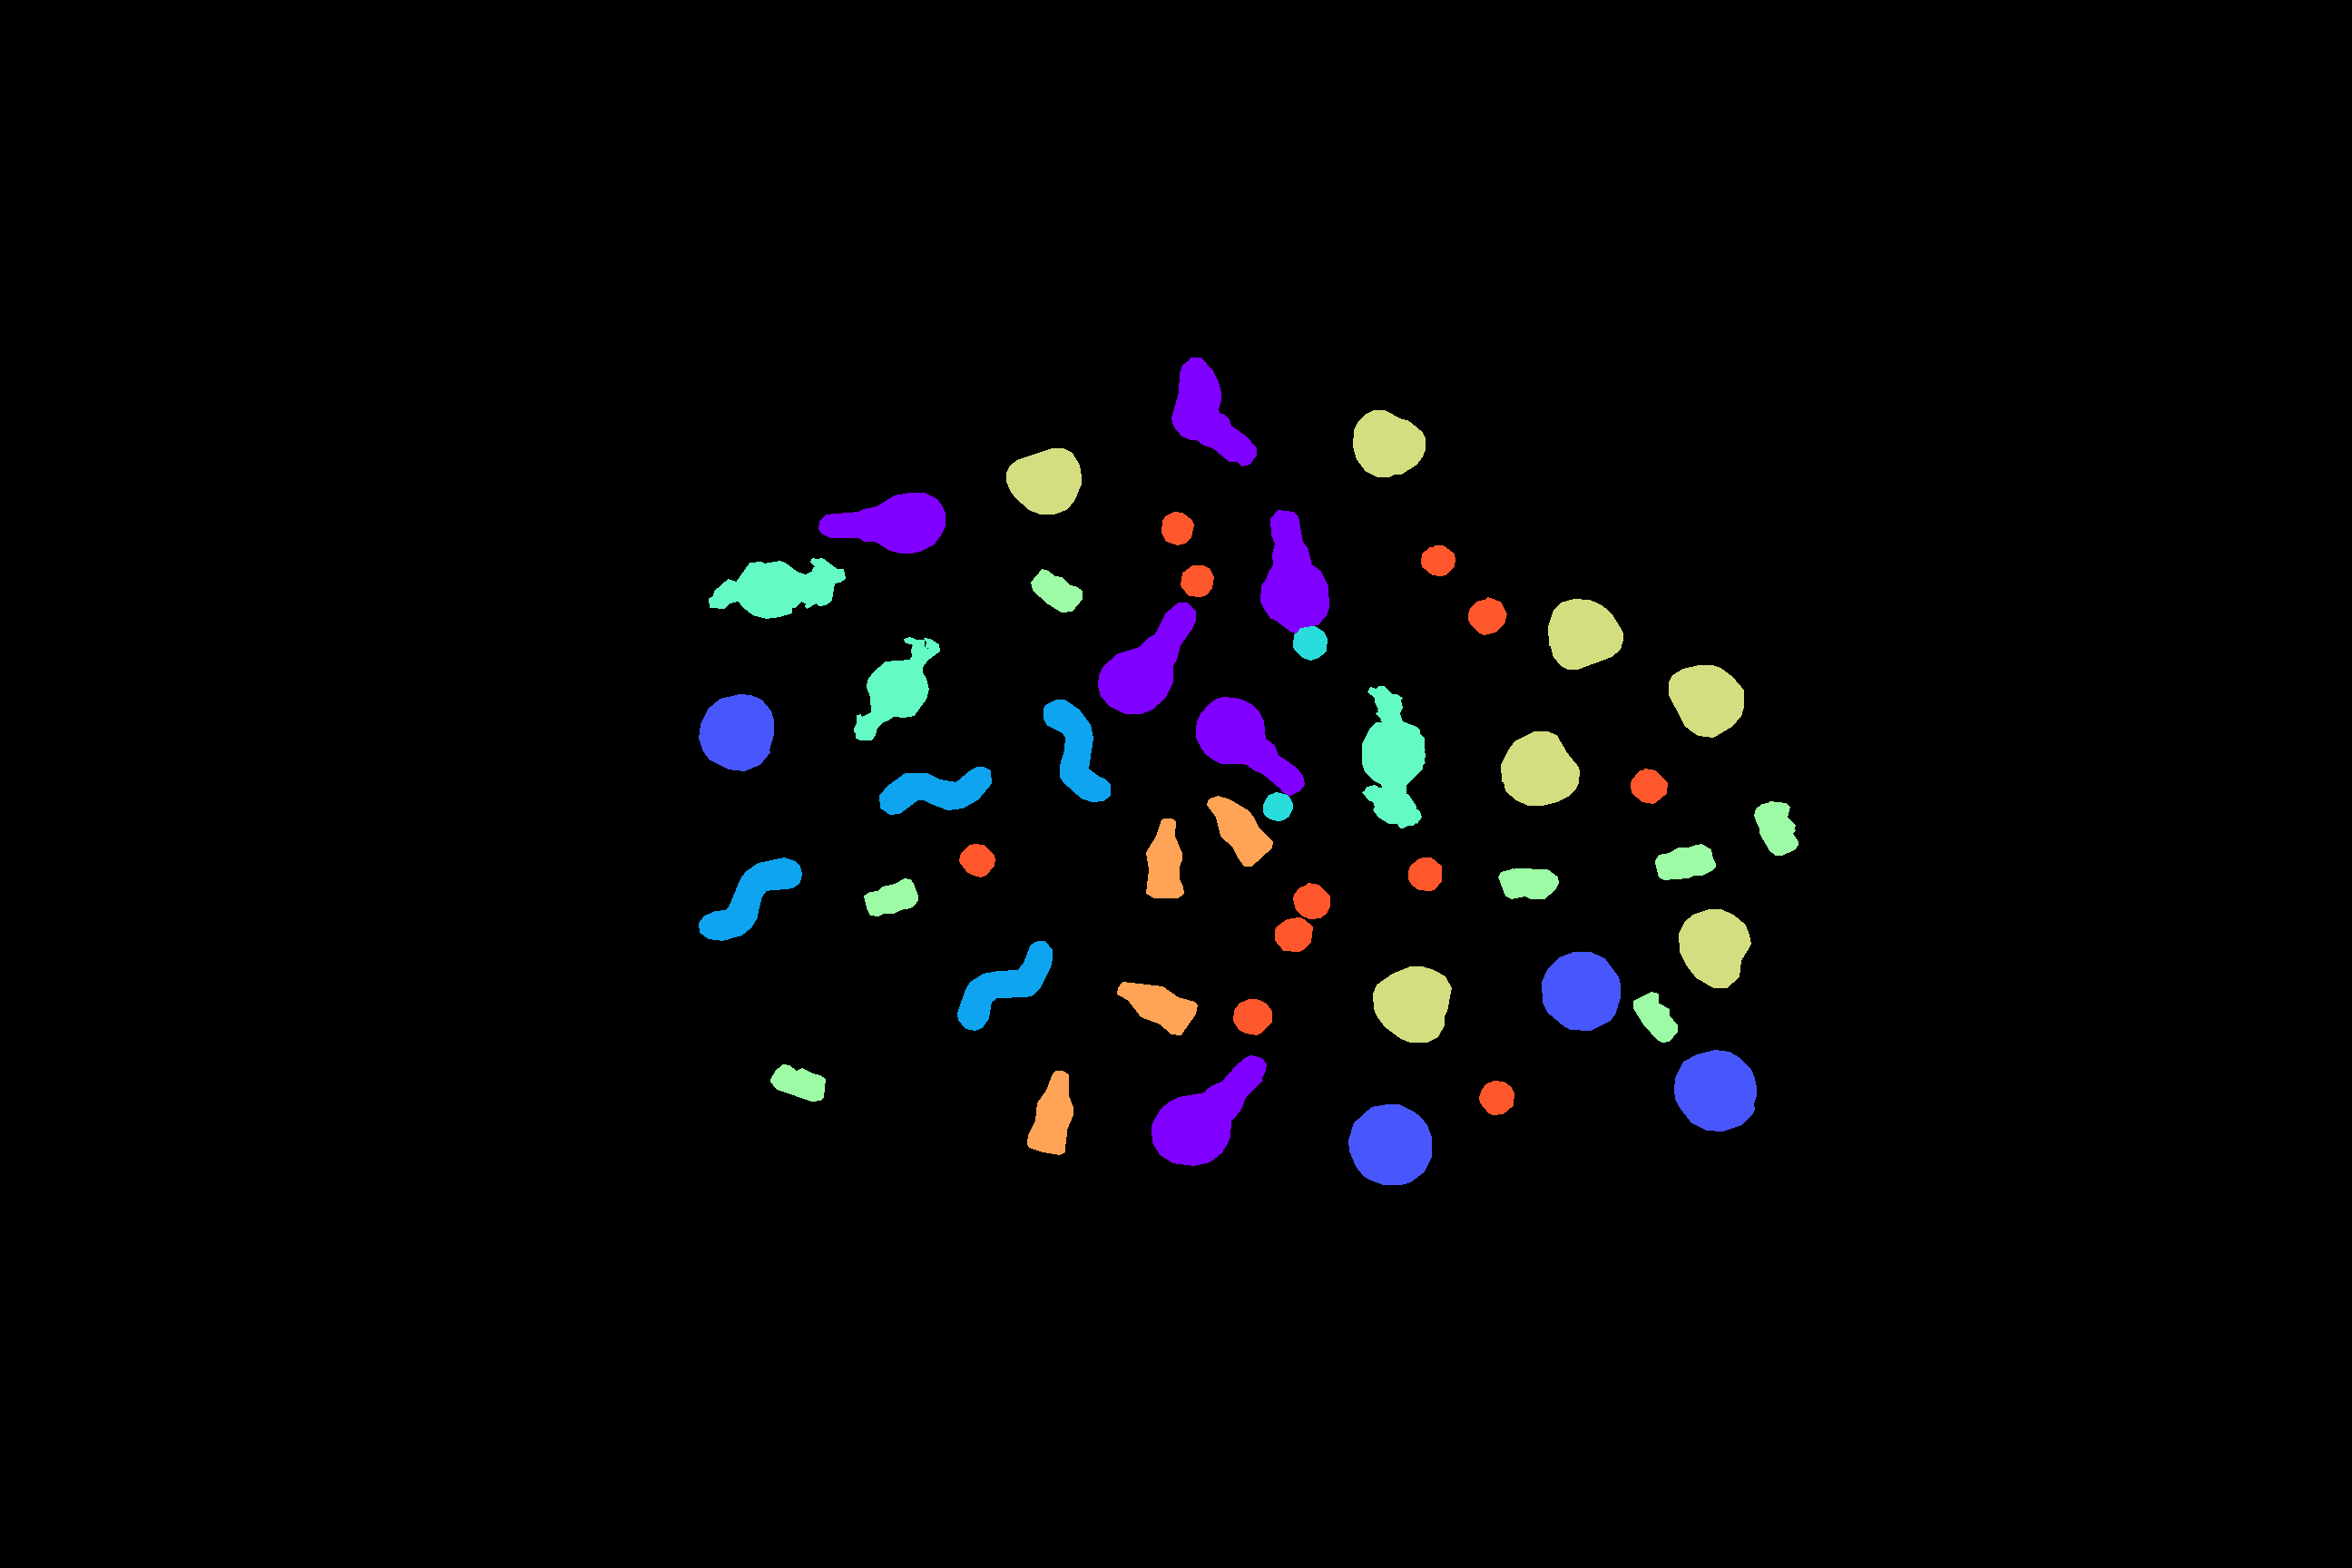apricot_jellies: (1374, 966, 1451, 1041), (1501, 731, 1579, 805), (1678, 910, 1750, 987), (1669, 665, 1743, 737), (1549, 598, 1622, 669), (1006, 448, 1081, 513), (1353, 409, 1424, 476)
bear: (1754, 802, 1797, 854), (1633, 992, 1677, 1041), (1031, 569, 1081, 611), (1656, 843, 1715, 878), (770, 1064, 824, 1101), (865, 878, 917, 915), (1498, 868, 1558, 898)
coin_candy: (1349, 1104, 1432, 1185), (1675, 1050, 1755, 1130), (1542, 952, 1620, 1031), (698, 695, 773, 770)
cola bottle candies: (1207, 796, 1272, 866), (1117, 982, 1197, 1034), (1027, 1071, 1073, 1155), (1146, 819, 1183, 898)
dummies: (1151, 1055, 1265, 1166), (1097, 602, 1195, 714), (1195, 696, 1304, 796), (1171, 357, 1256, 465), (1260, 509, 1328, 632), (819, 494, 945, 553)
skittles: (1468, 597, 1507, 633), (1234, 999, 1270, 1034), (1293, 884, 1330, 919), (1631, 768, 1668, 803), (1276, 917, 1313, 950), (1479, 1081, 1514, 1115), (959, 843, 994, 877), (1409, 857, 1440, 891), (1162, 511, 1193, 544), (1181, 565, 1213, 597), (1421, 546, 1454, 576)
sourworms: (698, 857, 802, 940), (957, 942, 1052, 1031), (1043, 700, 1109, 802), (878, 767, 991, 814)
tofifee: (1293, 625, 1326, 660), (1264, 793, 1291, 821)
vollmilch_brocken: (1362, 686, 1424, 828), (854, 637, 940, 740), (709, 558, 845, 618)
